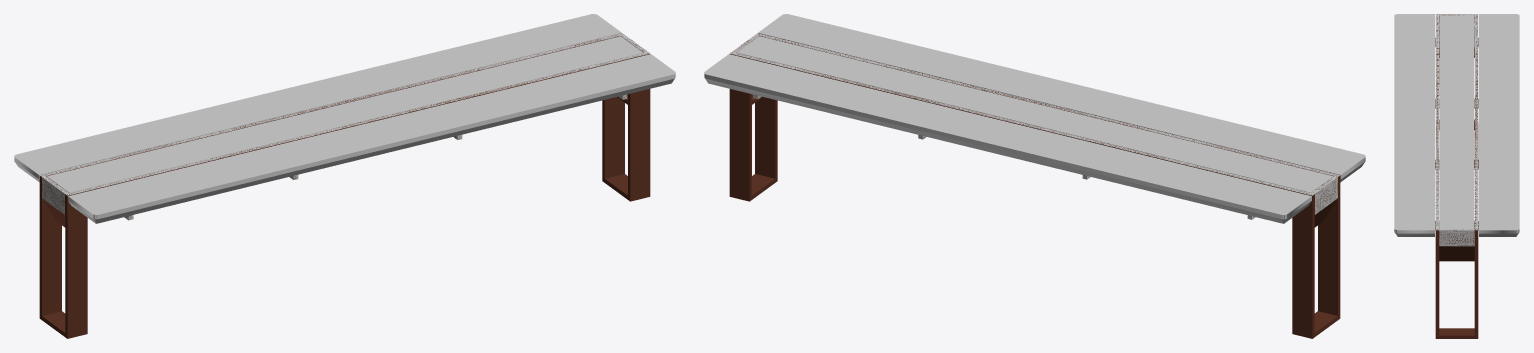
The picture shows the model from 3 angles, left to right: view 1: azimuth 30°, elevation 25°; view 2: azimuth 150°, elevation 25°; view 3: azimuth 270°, elevation 25°; orthographic projection. The views are drawn at different scales.
Parts seen in each view (by area): view 1: mesh2_mesh2-geometry, mesh1_mesh1-geometry, mesh8_mesh8-geometry, mesh11_mesh11-geometry, mesh7_mesh7-geometry, mesh10_mesh10-geometry, mesh5_mesh5-geometry, mesh6_mesh6-geometry; view 2: mesh1_mesh1-geometry, mesh2_mesh2-geometry, mesh8_mesh8-geometry, mesh11_mesh11-geometry, mesh7_mesh7-geometry, mesh10_mesh10-geometry, mesh5_mesh5-geometry, mesh6_mesh6-geometry; view 3: mesh1_mesh1-geometry, mesh2_mesh2-geometry, mesh8_mesh8-geometry, mesh11_mesh11-geometry, mesh5_mesh5-geometry, mesh10_mesh10-geometry, mesh9_mesh9-geometry, mesh6_mesh6-geometry.
Boxes of the visible parts, <box> form: mesh2_mesh2-geometry: <box>68,14,621,223</box>; mesh1_mesh1-geometry: <box>14,54,675,182</box>; mesh8_mesh8-geometry: <box>333,36,642,123</box>; mesh11_mesh11-geometry: <box>47,106,354,192</box>; mesh7_mesh7-geometry: <box>39,197,87,338</box>; mesh10_mesh10-geometry: <box>602,89,650,201</box>; mesh5_mesh5-geometry: <box>39,33,650,216</box>; mesh6_mesh6-geometry: <box>42,176,68,214</box>; mesh1_mesh1-geometry: <box>758,14,1311,223</box>; mesh2_mesh2-geometry: <box>704,54,1365,182</box>; mesh8_mesh8-geometry: <box>737,36,1047,123</box>; mesh11_mesh11-geometry: <box>1025,106,1333,192</box>; mesh7_mesh7-geometry: <box>1292,197,1340,338</box>; mesh10_mesh10-geometry: <box>729,89,777,201</box>; mesh5_mesh5-geometry: <box>729,33,1340,216</box>; mesh6_mesh6-geometry: <box>1311,176,1337,214</box>; mesh1_mesh1-geometry: <box>1394,14,1519,236</box>; mesh2_mesh2-geometry: <box>1394,14,1519,236</box>; mesh8_mesh8-geometry: <box>1439,121,1473,228</box>; mesh11_mesh11-geometry: <box>1439,15,1473,121</box>; mesh5_mesh5-geometry: <box>1435,14,1478,246</box>; mesh10_mesh10-geometry: <box>1435,246,1478,338</box>; mesh9_mesh9-geometry: <box>1439,228,1474,246</box>; mesh6_mesh6-geometry: <box>1439,14,1474,37</box>.
Bounding box in the file's own units: 0.947 × 0.2223 × 0.2318.
